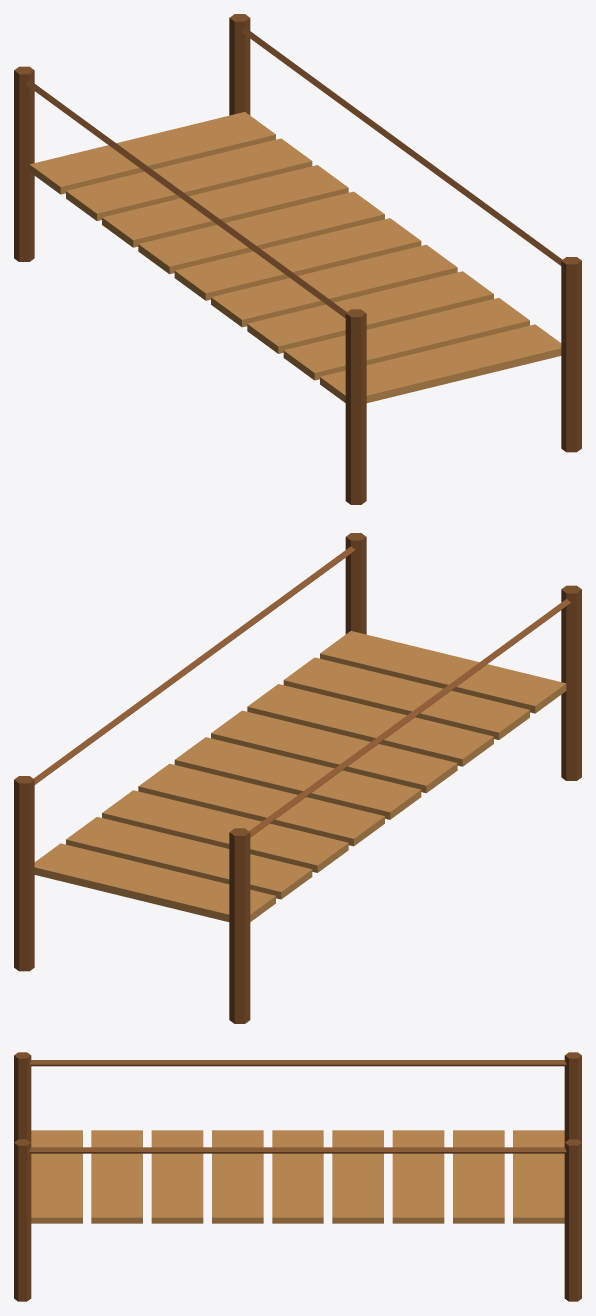
Rendered from rope_bridge.glb.
The picture shows the model from 3 angles, top to bottom: view 1: azimuth 30°, elevation 25°; view 2: azimuth 150°, elevation 25°; view 3: azimuth 270°, elevation 25°; orthographic projection. The views are drawn at different scales.
Parts seen in each view (by area): view 1: rope_bridge; view 2: rope_bridge; view 3: rope_bridge.
Part boxes in pixels (x1=…): rope_bridge: x1=14, y1=14, x2=581, y2=504; rope_bridge: x1=14, y1=533, x2=581, y2=1023; rope_bridge: x1=14, y1=1052, x2=581, y2=1301.
Size of the model in its own units: 1.29 by 1 by 3.3.
